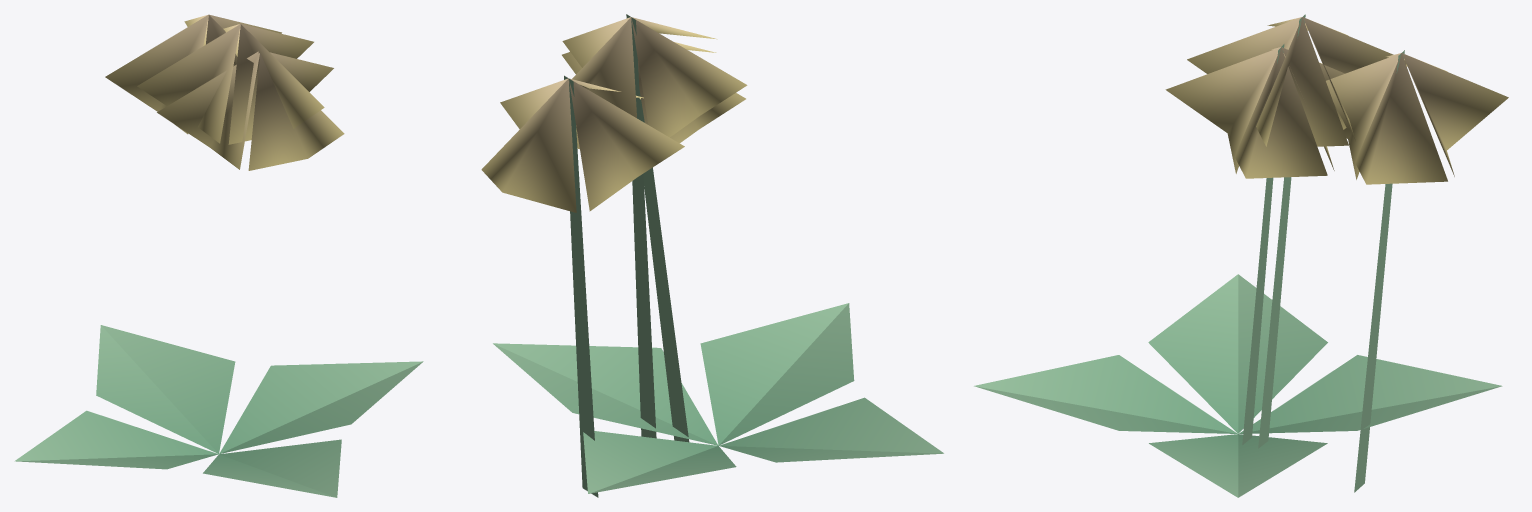
Rendered from cowslip.glb.
The picture shows the model from 3 angles, left to right: view 1: azimuth 30°, elevation 25°; view 2: azimuth 150°, elevation 25°; view 3: azimuth 270°, elevation 25°; orthographic projection. The views are drawn at different scales.
Parts seen in each view (by area): view 1: near; view 2: near; view 3: near.
Boxes of the visible parts, x1,y1,x2,y2 form: near: [14, 14, 423, 497]; near: [481, 14, 943, 497]; near: [974, 14, 1508, 497].
Size of the model in its own units: 0.2353 by 0.2284 by 0.2418.
